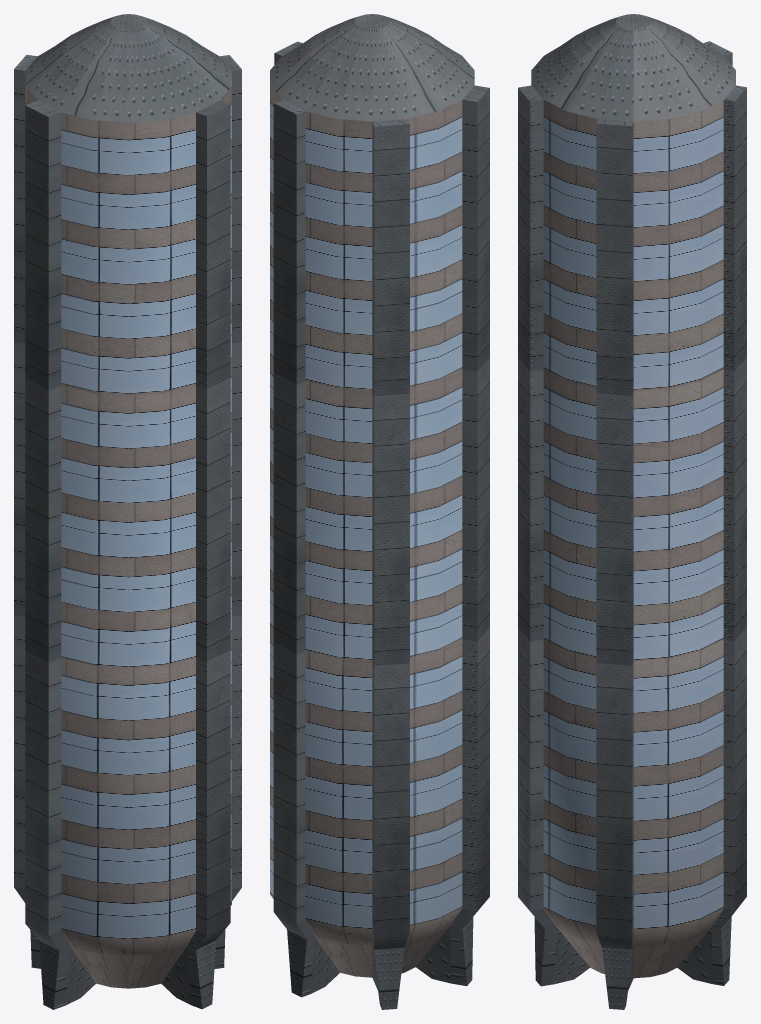
The model's file is skyscraper8.FBX.
3 renders of one model, left to right at view 1: azimuth 30°, elevation 25°; view 2: azimuth 150°, elevation 25°; view 3: azimuth 270°, elevation 25°, orthographic.
Visible parts, largest first — view 1: Cylinder001; view 2: Cylinder001; view 3: Cylinder001.
Boxes of the visible parts, x1,y1,x2,y2 form: Cylinder001: (14, 14, 241, 1009); Cylinder001: (270, 14, 489, 1009); Cylinder001: (518, 14, 746, 1009).
Bounding box in the file's own units: 117 × 524 × 115.
